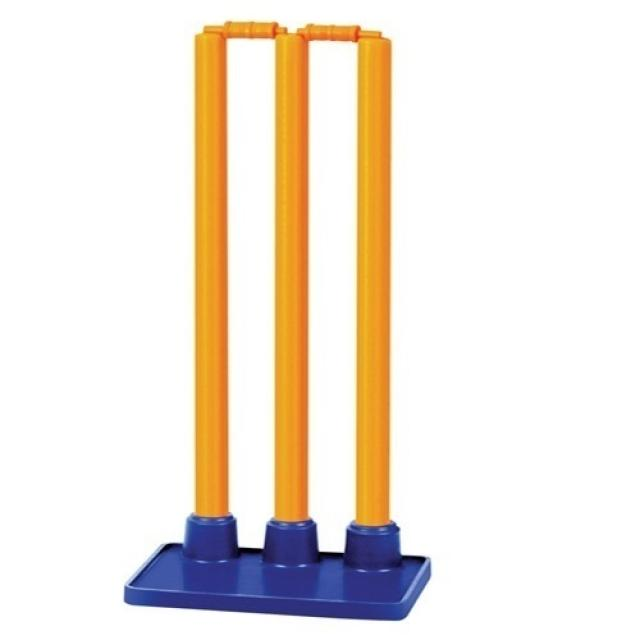stump: (195, 22, 392, 561)
